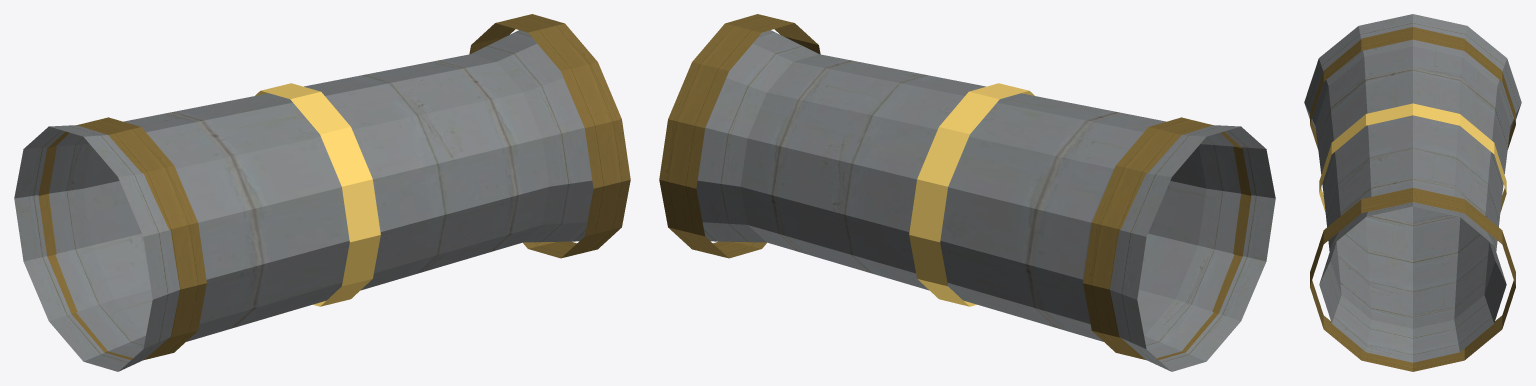
File: eq_past_2_arm.glb
The picture shows the model from 3 angles, left to right: view 1: azimuth 30°, elevation 25°; view 2: azimuth 150°, elevation 25°; view 3: azimuth 270°, elevation 25°; orthographic projection. The views are drawn at different scales.
Visible parts, largest first — view 1: eq_past_2_arm; view 2: eq_past_2_arm; view 3: eq_past_2_arm.
Boxes of the visible parts, left/top/right/bottom form: eq_past_2_arm: left=14, top=14, right=630, bottom=371; eq_past_2_arm: left=659, top=14, right=1275, bottom=371; eq_past_2_arm: left=1304, top=14, right=1521, bottom=371.
Size of the model in its own units: 0.2423 by 0.1082 by 0.1206.
3 materials, 3 textured.
